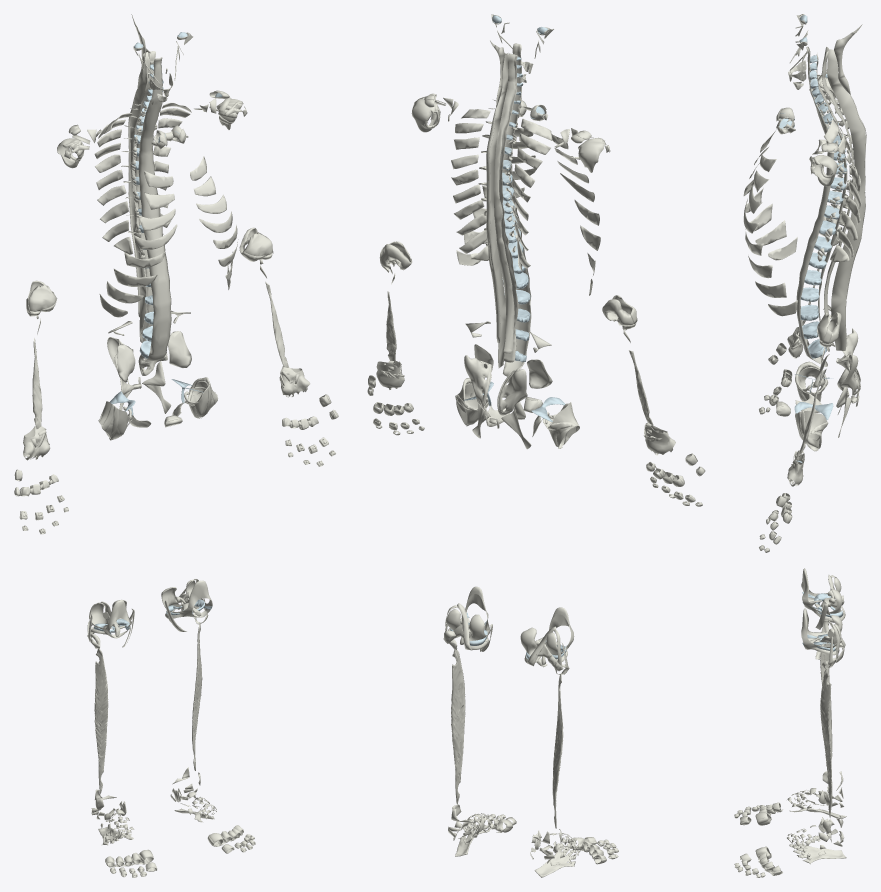
File: joints.glb
The picture shows the model from 3 angles, left to right: view 1: azimuth 30°, elevation 25°; view 2: azimuth 150°, elevation 25°; view 3: azimuth 270°, elevation 25°; orthographic projection. The views are drawn at different scales.
Visible parts, largest first — view 1: JNT.anterior_longitudinal_ligament.C, JNT.external_intercostal_membrane.R, JNT.internal_intercostal_membrane.R, JNT.external_intercostal_membrane.L, JNT.interosseous_membrane_of_leg.R, JNT.interspinous_ligaments.C, JNT.articular_capsule_of_knee_joint.L, JNT.internal_intercostal_membrane.L, JNT.articular_capsule_of_knee_joint.R, JNT.articular_capsule_of_elbow_joint.L, JNT.interosseous_membrane_of_leg.L, JNT.articular_capsule_of_elbow_joint.R (+2 smaller); view 2: JNT.internal_intercostal_membrane.L, JNT.ligamenta_flava.C, JNT.interspinous_ligaments.C, JNT.internal_intercostal_membrane.R, JNT.interosseous_membrane_of_leg.L, JNT.anterior_longitudinal_ligament.C, JNT.external_intercostal_membrane.R, JNT.posterior_longitudinal_ligament.C, JNT.articular_capsule_of_knee_joint.L, JNT.supraspinous_ligament.C, JNT.articular_capsule_of_knee_joint.R, JNT.posterior_sacro_iliac_ligament.R (+4 smaller); view 3: JNT.interspinous_ligaments.C, JNT.external_intercostal_membrane.L, JNT.internal_intercostal_membrane.L, JNT.anterior_longitudinal_ligament.C, JNT.external_intercostal_membrane.R, JNT.interosseous_membrane_of_leg.L, JNT.ligamenta_flava.C, JNT.articular_capsule_of_knee_joint.L, JNT.articular_capsule_of_knee_joint.R, JNT.posterior_longitudinal_ligament.C, JNT.long_plantar_ligament.L, JNT.articular_capsule_of_elbow_joint.L (+15 smaller).
Part boxes in pixels (x1,y1,x2,y2): JNT.anterior_longitudinal_ligament.C: (138, 57, 171, 363); JNT.external_intercostal_membrane.R: (99, 170, 177, 317); JNT.internal_intercostal_membrane.R: (94, 113, 132, 254); JNT.external_intercostal_membrane.L: (190, 156, 238, 289); JNT.interosseous_membrane_of_leg.R: (94, 648, 108, 794); JNT.interspinous_ligaments.C: (130, 50, 149, 342); JNT.articular_capsule_of_knee_joint.L: (161, 579, 212, 618); JNT.internal_intercostal_membrane.L: (153, 102, 191, 235); JNT.articular_capsule_of_knee_joint.R: (90, 599, 131, 638); JNT.articular_capsule_of_elbow_joint.L: (239, 227, 272, 261); JNT.interosseous_membrane_of_leg.L: (192, 622, 202, 770); JNT.articular_capsule_of_elbow_joint.R: (28, 280, 56, 311); JNT.internal_intercostal_membrane.L: (451, 109, 490, 260); JNT.ligamenta_flava.C: (494, 53, 515, 353); JNT.interspinous_ligaments.C: (488, 53, 508, 368); JNT.internal_intercostal_membrane.R: (512, 119, 552, 271); JNT.interosseous_membrane_of_leg.L: (451, 649, 465, 804); JNT.anterior_longitudinal_ligament.C: (502, 43, 531, 376); JNT.external_intercostal_membrane.R: (551, 134, 600, 295); JNT.posterior_longitudinal_ligament.C: (499, 53, 518, 362); JNT.articular_capsule_of_knee_joint.L: (446, 586, 489, 649); JNT.supraspinous_ligament.C: (486, 108, 500, 343); JNT.articular_capsule_of_knee_joint.R: (520, 607, 574, 662); JNT.posterior_sacro_iliac_ligament.R: (497, 368, 527, 415); JNT.interspinous_ligaments.C: (826, 49, 865, 350); JNT.external_intercostal_membrane.L: (743, 154, 797, 316); JNT.internal_intercostal_membrane.L: (824, 116, 861, 262); JNT.anterior_longitudinal_ligament.C: (796, 46, 833, 366); JNT.external_intercostal_membrane.R: (743, 129, 797, 260); JNT.interosseous_membrane_of_leg.L: (820, 668, 832, 817); JNT.ligamenta_flava.C: (822, 47, 854, 341); JNT.articular_capsule_of_knee_joint.L: (801, 608, 842, 655); JNT.articular_capsule_of_knee_joint.R: (801, 568, 844, 622); JNT.posterior_longitudinal_ligament.C: (816, 53, 847, 351); JNT.long_plantar_ligament.L: (789, 843, 846, 864); JNT.articular_capsule_of_elbow_joint.L: (817, 312, 841, 343).
Bounding box in the file's own units: 0.6613 × 1.58 × 0.2308.
